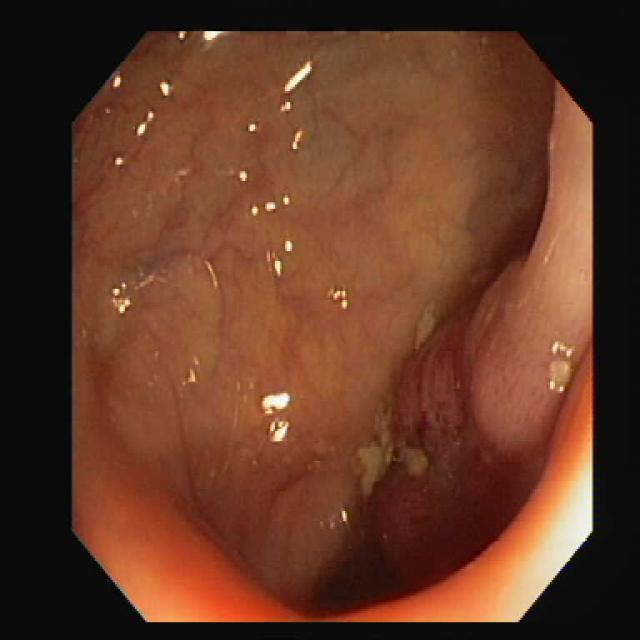tumor: (387, 200, 590, 618)
